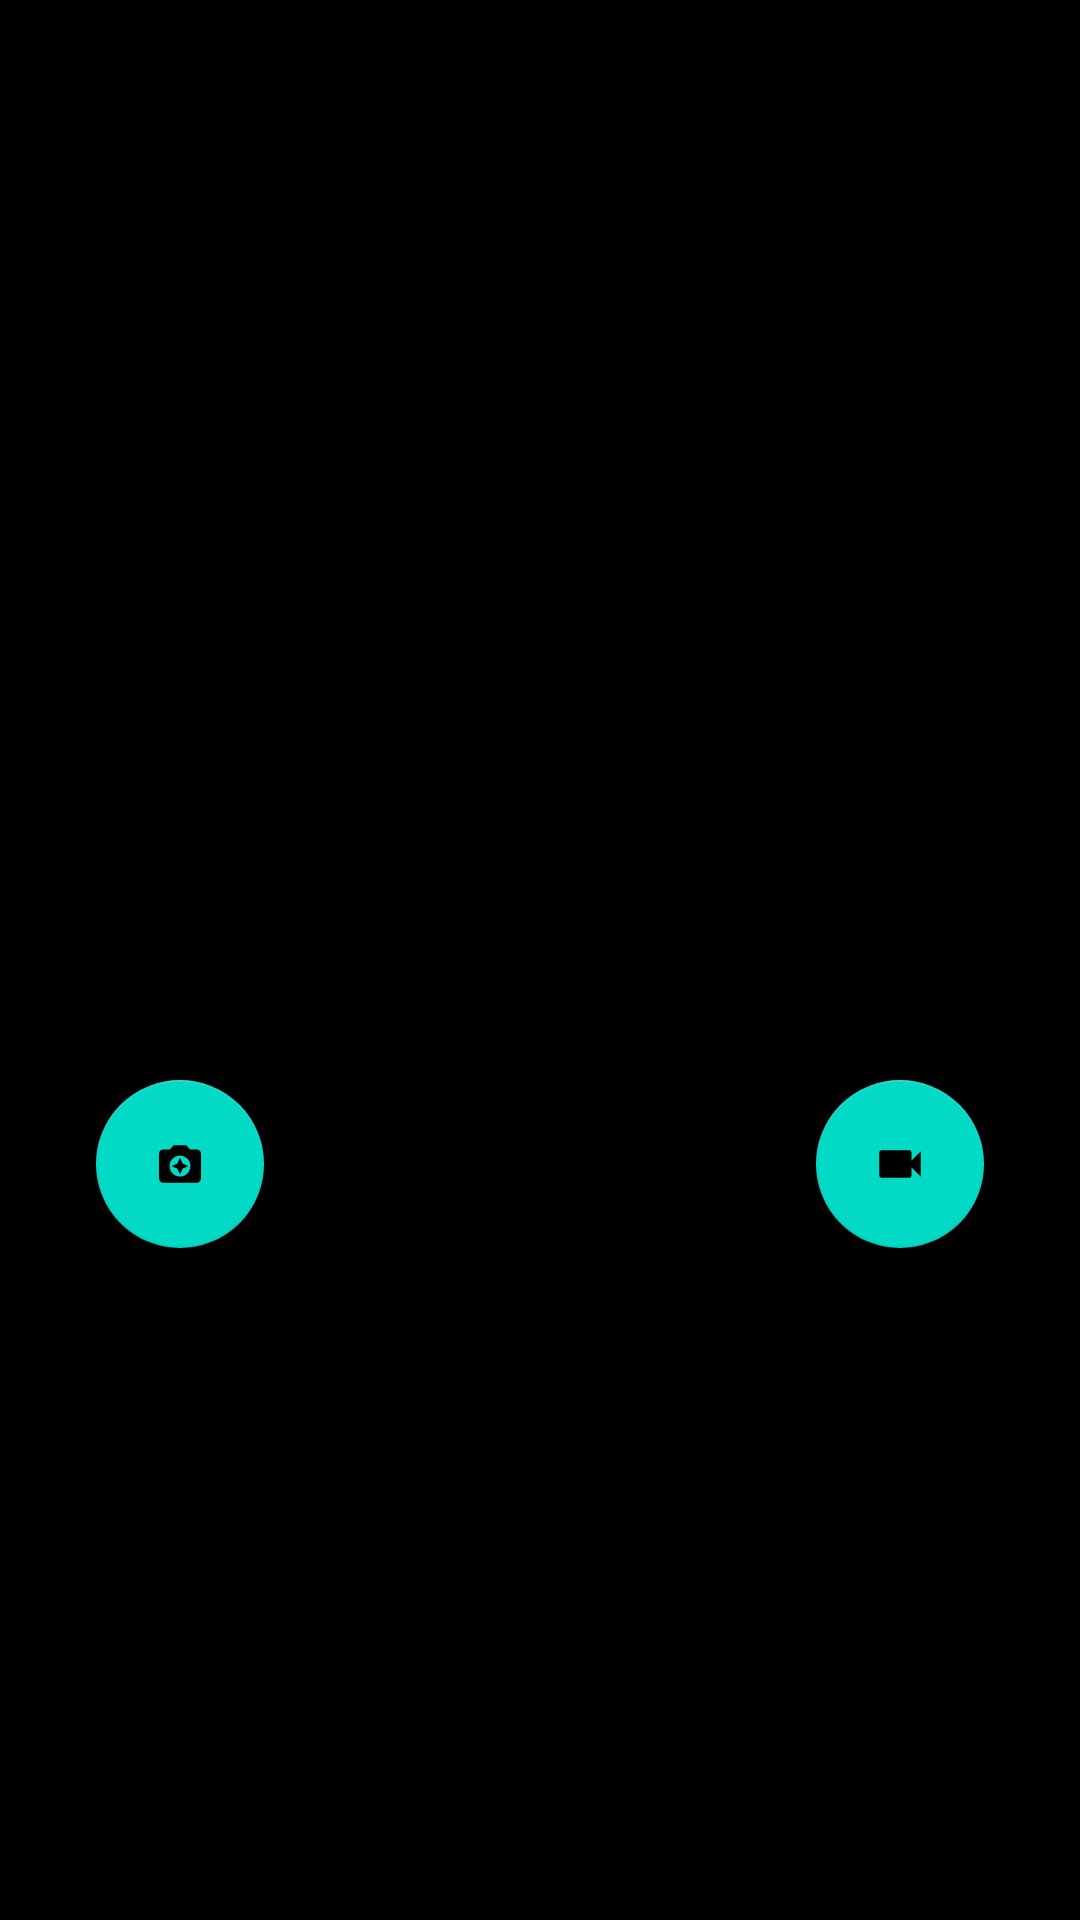

Screen size 1080 x 1920. Icon name, then its box in pixels as (x1, y1, x2, y2):
Take Photo: (96, 1080, 264, 1248)
Take Video: (816, 1080, 984, 1248)
